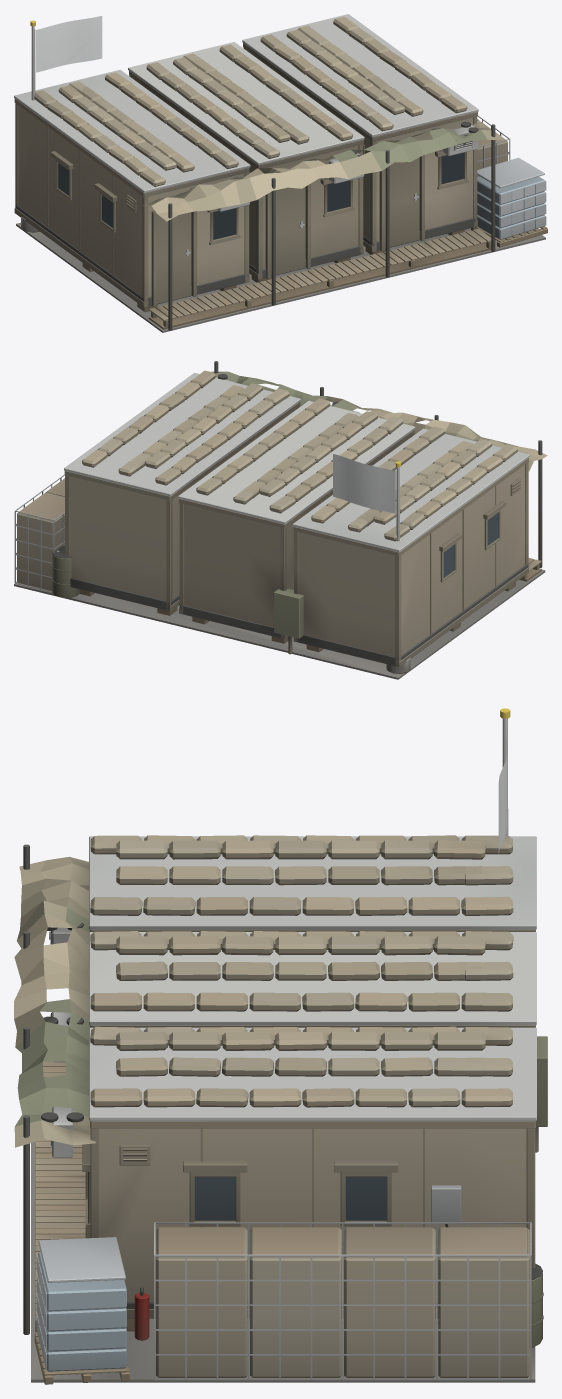
The model's file is struct_barracks_usa.glb.
3 renders of one model, top to bottom at view 1: azimuth 30°, elevation 25°; view 2: azimuth 150°, elevation 25°; view 3: azimuth 270°, elevation 25°, orthographic. The views are drawn at different scales.
Parts seen in each view (by area): view 1: struct_barracks_usa; view 2: struct_barracks_usa; view 3: struct_barracks_usa.
Boxes of the visible parts, <box> form: struct_barracks_usa: <box>14,14,547,332</box>; struct_barracks_usa: <box>14,361,547,679</box>; struct_barracks_usa: <box>14,708,547,1384</box>.
Bounding box in the file's own units: 9.17 × 4.62 × 6.25.
